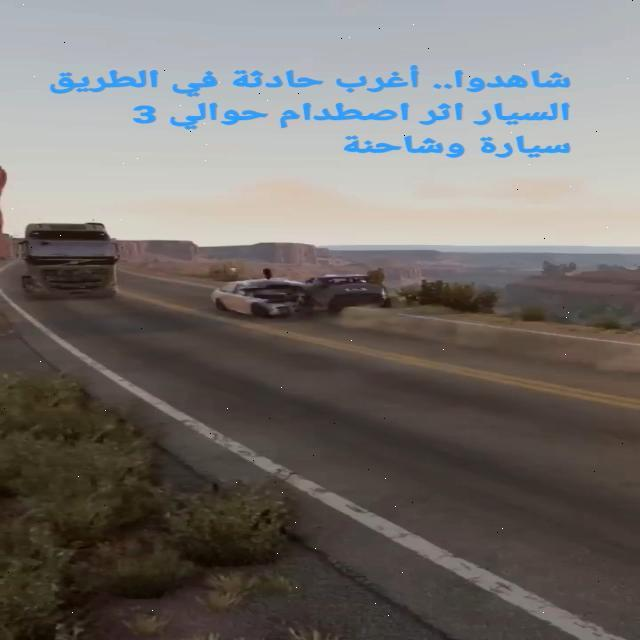accident: (217, 265, 430, 330)
